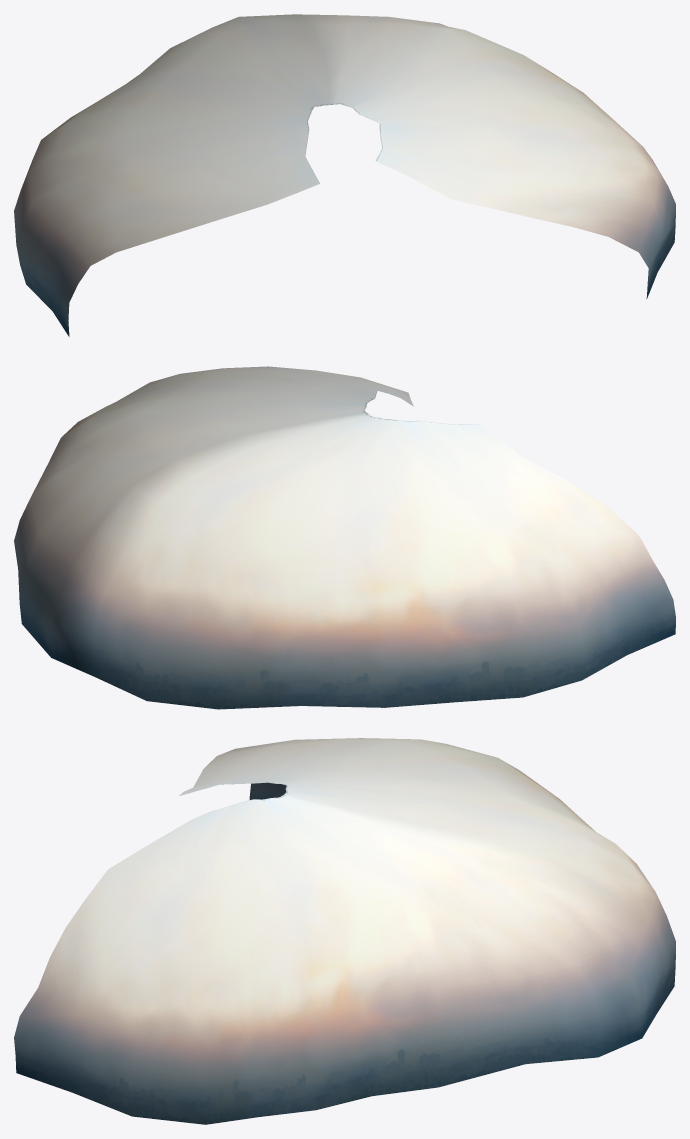
Rendered from 00_03_outside_skyline.dae.
The picture shows the model from 3 angles, top to bottom: view 1: azimuth 30°, elevation 25°; view 2: azimuth 150°, elevation 25°; view 3: azimuth 270°, elevation 25°; orthographic projection. The views are drawn at different scales.
Parts seen in each view (by area): view 1: polySurface505; view 2: polySurface505; view 3: polySurface505.
Part boxes in pixels (x1,y1,x2,y2): polySurface505: [14, 14, 675, 336]; polySurface505: [14, 366, 675, 709]; polySurface505: [14, 738, 675, 1124].
Bounding box in the file's own units: 108049 × 28550 × 97487.
